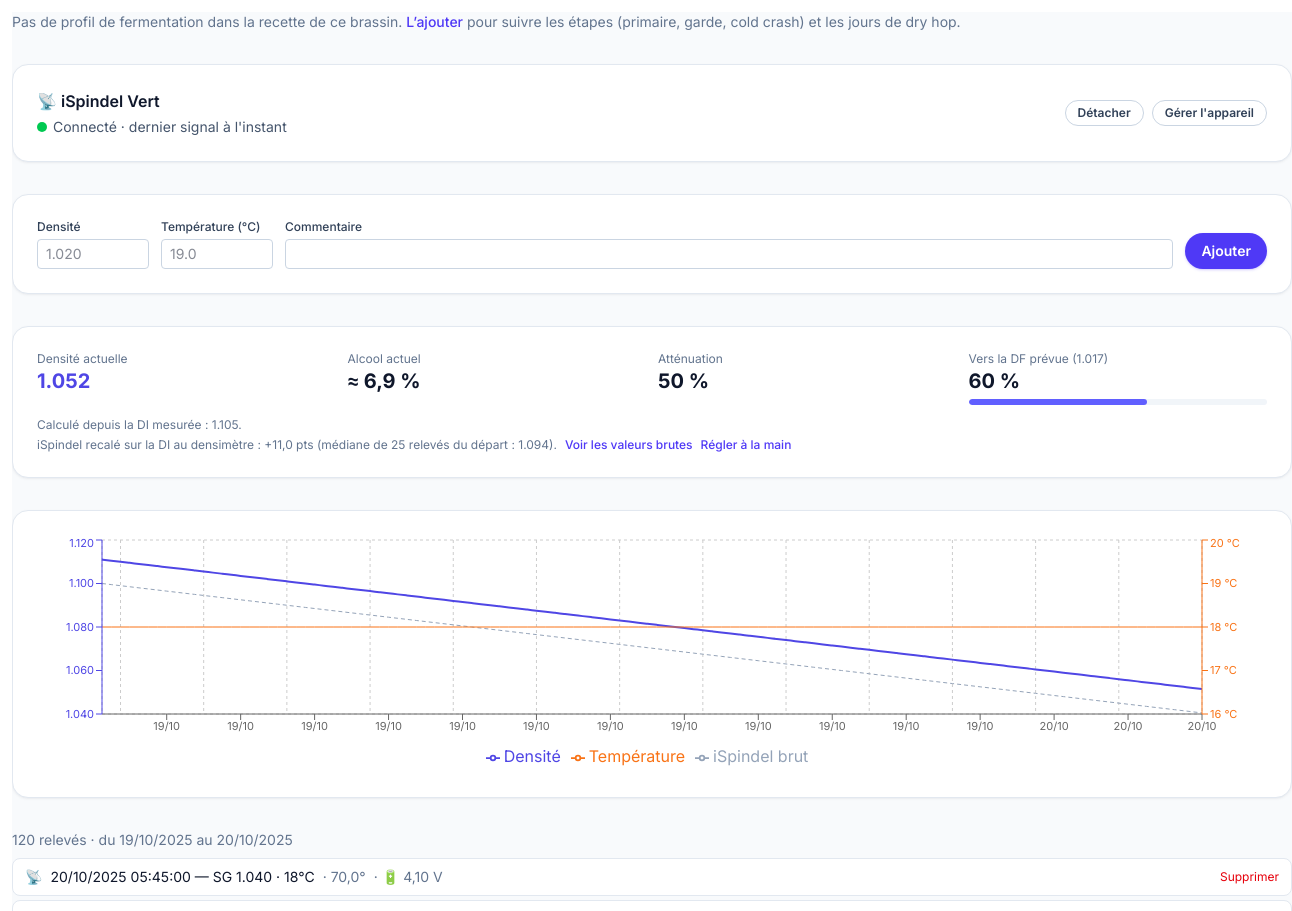
Test: Suivi de fermentation › montre l’alcool déjà produit, calculé depuis la DI
// Valeurs brutes de l'iSpindel : derniers relevés autour de 1.041, (1.105 − 1.041) × 131,25 ≈ 8,4 %.
Step 1. Click the button "Voir les valeurs brutes" → [629, 445], box [565,437,693,453]
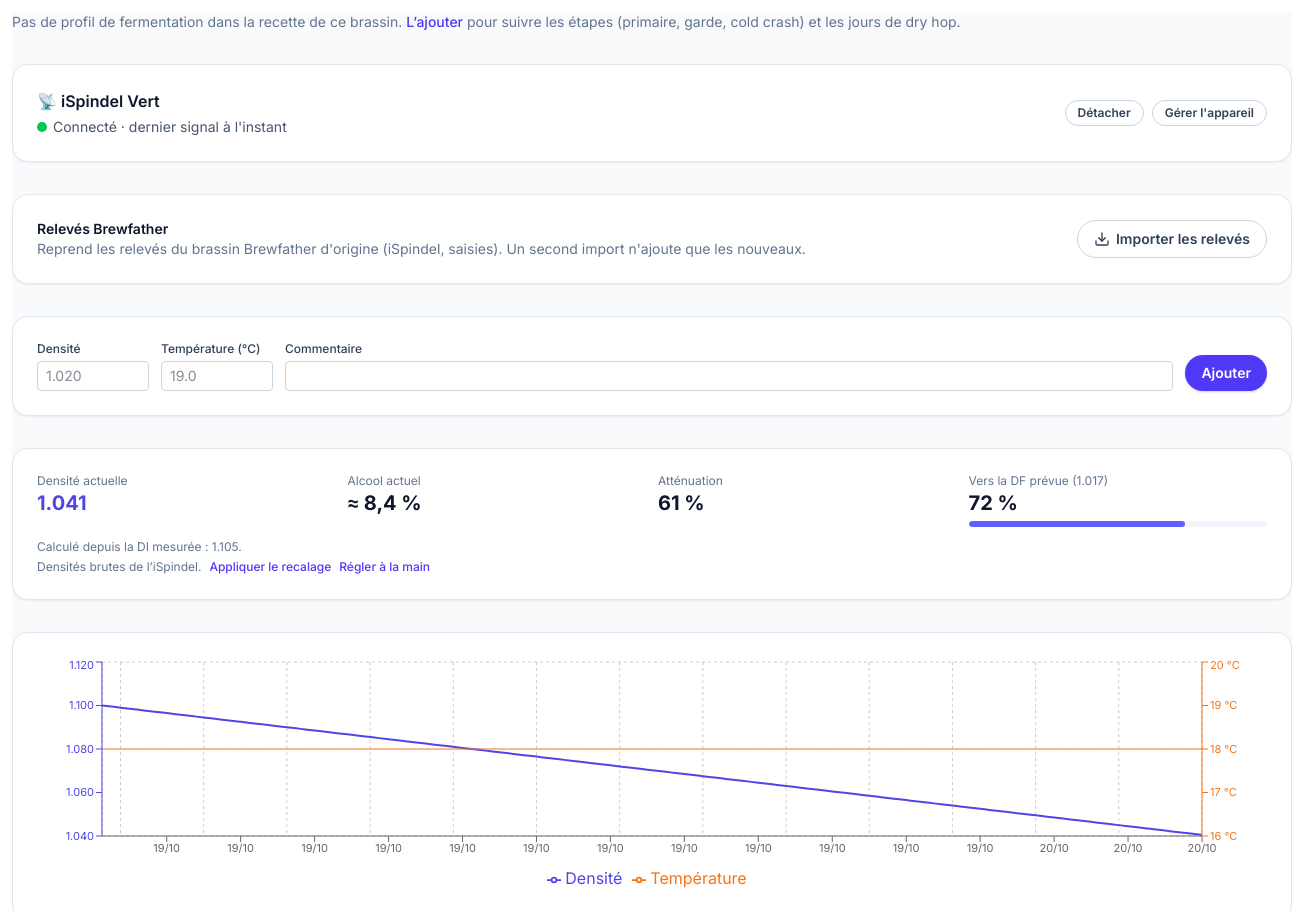
Check: the text "Vers la DF prévue (1.017)" is shown, box [968,473,1108,488]
Check: the text "≈ 8,4 %" is shown, box [348,491,422,515]
Check: the text "1.041" is shown, box [37,491,87,515]
